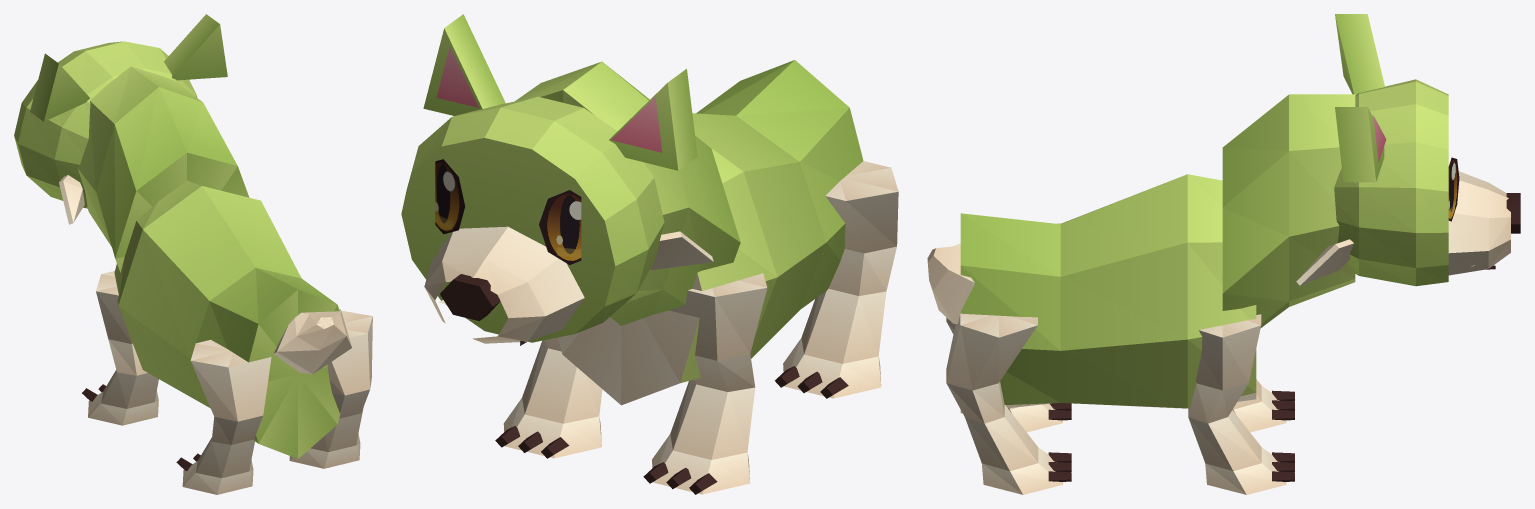
Rendered from Vinefang_S1_FacetedReview.glb.
The picture shows the model from 3 angles, left to right: view 1: azimuth 30°, elevation 25°; view 2: azimuth 150°, elevation 25°; view 3: azimuth 270°, elevation 25°; orthographic projection. The views are drawn at different scales.
Parts seen in each view (by area): view 1: Body, Neck, Head, LeftBackLeg, RightBackLeg, LeftFrontLeg, Tail, RightEar, LeftEar, LeftCheekFur; view 2: Body, Head, LeftBackLeg, LeftFrontLeg, Neck, Muzzle, RightFrontLeg, LeftEar, RightEar, LeftEye, Nose, RightEye (+3 smaller); view 3: Body, Neck, Head, RightBackLeg, RightFrontLeg, Muzzle, RightEar, LeftEar, Tail, LeftFrontLeg, RightCheekFur, LeftBackLeg.
Boxes of the visible parts, box(x1,y1,x2,y2) form: Body: box(114, 180, 340, 458); Neck: box(77, 66, 249, 272); Head: box(14, 41, 197, 208); LeftBackLeg: box(182, 339, 271, 494); RightBackLeg: box(289, 310, 372, 468); LeftFrontLeg: box(88, 271, 158, 425); Tail: box(274, 309, 351, 374); RightEar: box(164, 14, 227, 80); LeftEar: box(30, 53, 89, 121); LeftCheekFur: box(59, 175, 84, 224); Body: box(558, 60, 863, 405); Head: box(401, 96, 664, 342); LeftBackLeg: box(783, 161, 898, 398); LeftFrontLeg: box(652, 273, 767, 494); Neck: box(515, 61, 740, 325); Muzzle: box(424, 226, 584, 343); RightFrontLeg: box(503, 337, 602, 458); LeftEar: box(609, 68, 697, 170); RightEar: box(423, 14, 505, 115); LeftEye: box(539, 190, 581, 264); Nose: box(440, 274, 500, 320); RightEye: box(435, 159, 465, 234); Body: box(960, 174, 1256, 413); Neck: box(1222, 94, 1355, 327); Head: box(1334, 79, 1448, 286); RightBackLeg: box(946, 313, 1062, 494); RightFrontLeg: box(1188, 314, 1286, 494); Muzzle: box(1448, 171, 1510, 275); RightEar: box(1335, 107, 1384, 182); LeftEar: box(1335, 14, 1384, 95); Tail: box(927, 243, 974, 323); LeftFrontLeg: box(1232, 379, 1286, 432); RightCheekFur: box(1296, 239, 1353, 285); LeftBackLeg: box(946, 317, 1062, 432).
Bounding box in the file's own units: 2.16 × 3.65 × 5.12.
Materials: 1 (1 with a texture image).
